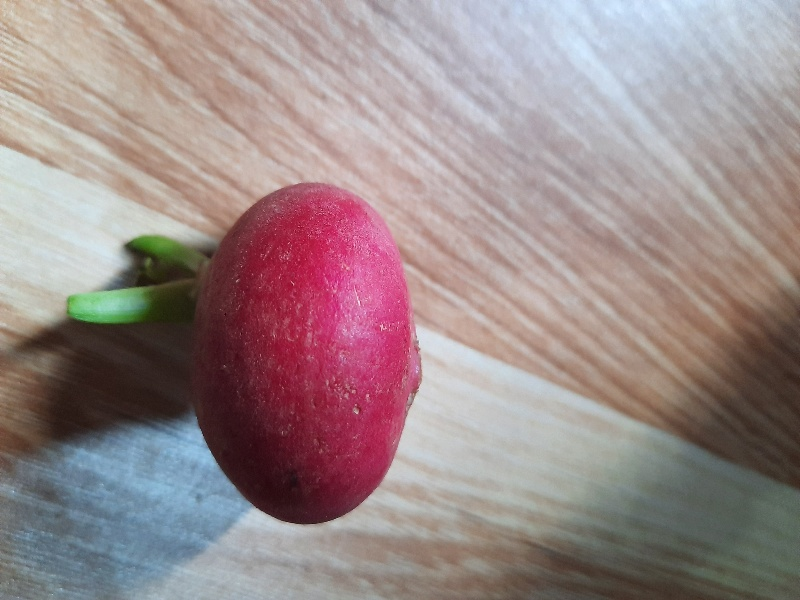vege: (55, 169, 420, 531)
